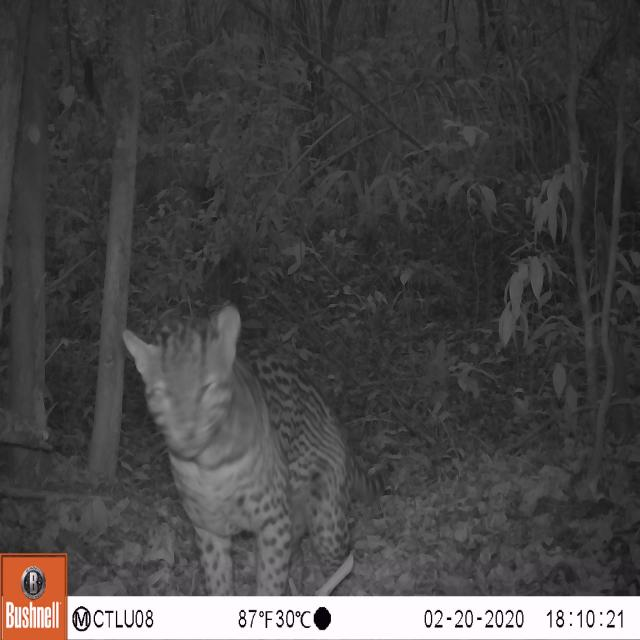Ocelote: (119, 304, 383, 594)
